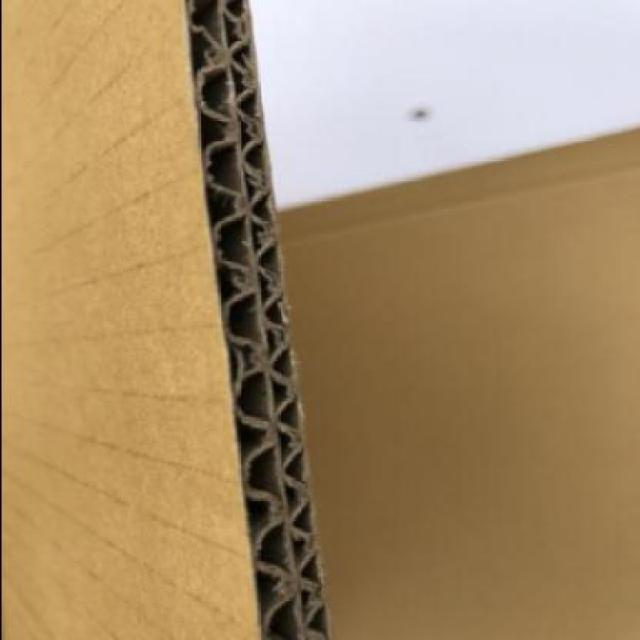CARDBOARD: (5, 0, 330, 640), (273, 127, 640, 640)
